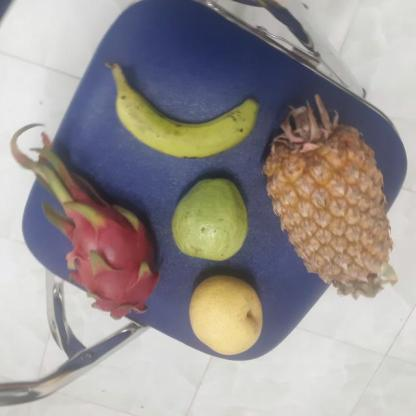banana: (107, 77, 252, 159)
guava: (167, 174, 252, 264)
pear: (185, 274, 265, 354)
pineapple: (261, 109, 389, 287)
pitaya: (59, 206, 161, 319)
